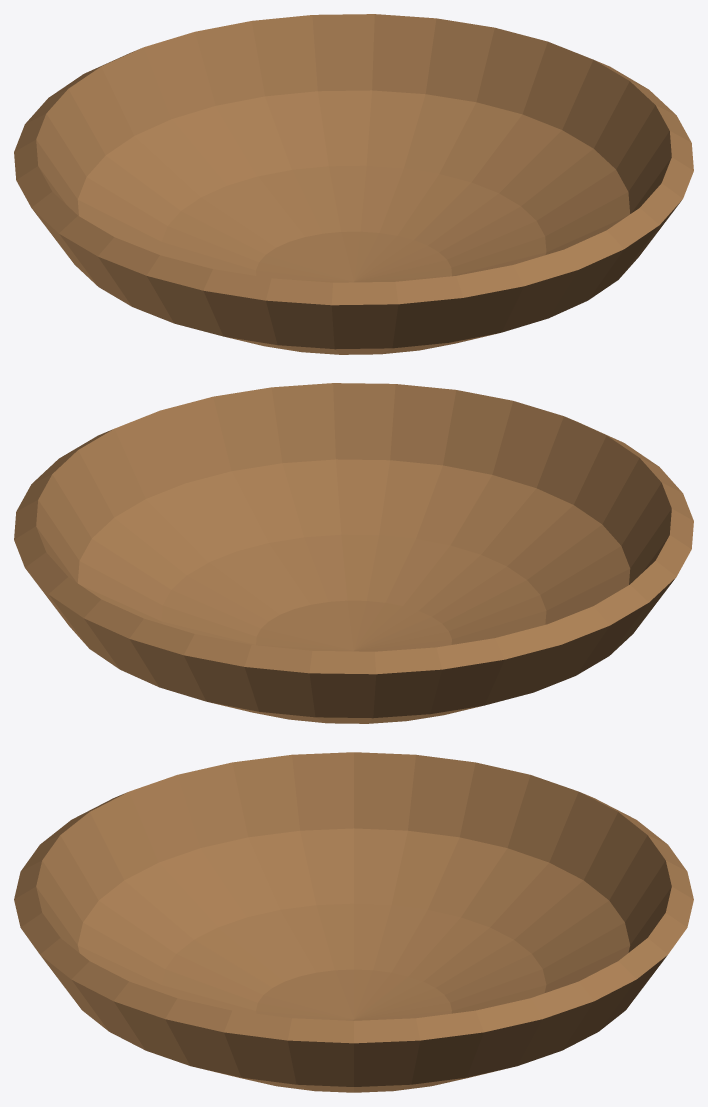
The model's file is Bowl.fbx.
3 renders of one model, top to bottom at view 1: azimuth 30°, elevation 25°; view 2: azimuth 150°, elevation 25°; view 3: azimuth 270°, elevation 25°, orthographic.
Visible parts, largest first — view 1: Bowl; view 2: Bowl; view 3: Bowl.
Boxes of the visible parts, x1=… form: Bowl: x1=14, y1=14, x2=693, y2=354; Bowl: x1=14, y1=383, x2=693, y2=723; Bowl: x1=14, y1=752, x2=693, y2=1092.
Bounding box in the file's own units: 128 × 32.73 × 128.
